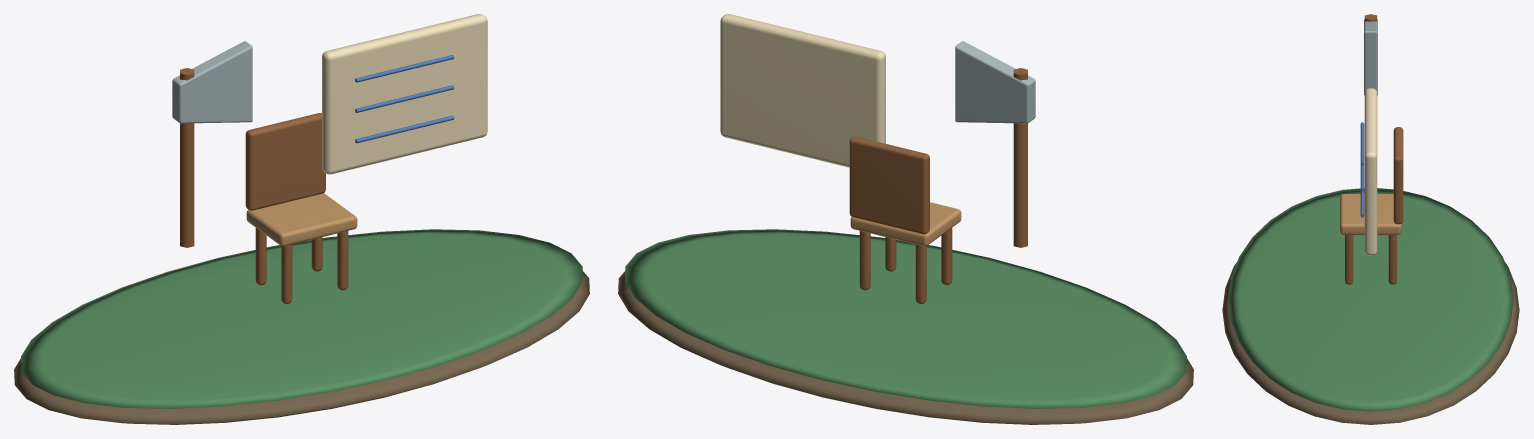
The model's file is repair-plan.glb.
3 renders of one model, left to right at view 1: azimuth 30°, elevation 25°; view 2: azimuth 150°, elevation 25°; view 3: azimuth 270°, elevation 25°, orthographic. The views are drawn at different scales.
Parts seen in each view (by area): view 1: repair-plan_surface_01, repair-plan_surface_04, repair-plan_surface_02, repair-plan_surface_00, repair-plan_surface_03, repair-plan_surface_06, repair-plan_surface_05; view 2: repair-plan_surface_01, repair-plan_surface_04, repair-plan_surface_02, repair-plan_surface_00, repair-plan_surface_03, repair-plan_surface_06; view 3: repair-plan_surface_01, repair-plan_surface_00, repair-plan_surface_04, repair-plan_surface_02, repair-plan_surface_06, repair-plan_surface_03, repair-plan_surface_05.
Part boxes in pixels (x1=…): repair-plan_surface_01: x1=21, y1=229, x2=582, y2=408; repair-plan_surface_04: x1=322, y1=14, x2=487, y2=174; repair-plan_surface_02: x1=180, y1=68, x2=348, y2=303; repair-plan_surface_00: x1=14, y1=271, x2=589, y2=424; repair-plan_surface_03: x1=172, y1=41, x2=252, y2=123; repair-plan_surface_06: x1=246, y1=193, x2=357, y2=246; repair-plan_surface_05: x1=355, y1=55, x2=454, y2=143; repair-plan_surface_01: x1=625, y1=229, x2=1186, y2=408; repair-plan_surface_04: x1=720, y1=14, x2=885, y2=167; repair-plan_surface_02: x1=849, y1=68, x2=1027, y2=303; repair-plan_surface_00: x1=618, y1=271, x2=1193, y2=424; repair-plan_surface_03: x1=955, y1=41, x2=1035, y2=123; repair-plan_surface_06: x1=850, y1=202, x2=961, y2=246; repair-plan_surface_01: x1=1228, y1=188, x2=1513, y2=411; repair-plan_surface_00: x1=1222, y1=262, x2=1519, y2=424; repair-plan_surface_04: x1=1364, y1=88, x2=1377, y2=255; repair-plan_surface_02: x1=1345, y1=14, x2=1403, y2=284; repair-plan_surface_06: x1=1340, y1=194, x2=1401, y2=234; repair-plan_surface_03: x1=1364, y1=20, x2=1377, y2=95; repair-plan_surface_05: x1=1360, y1=122, x2=1364, y2=217.
Size of the model in its own units: 4.56 by 2.51 by 2.5.
